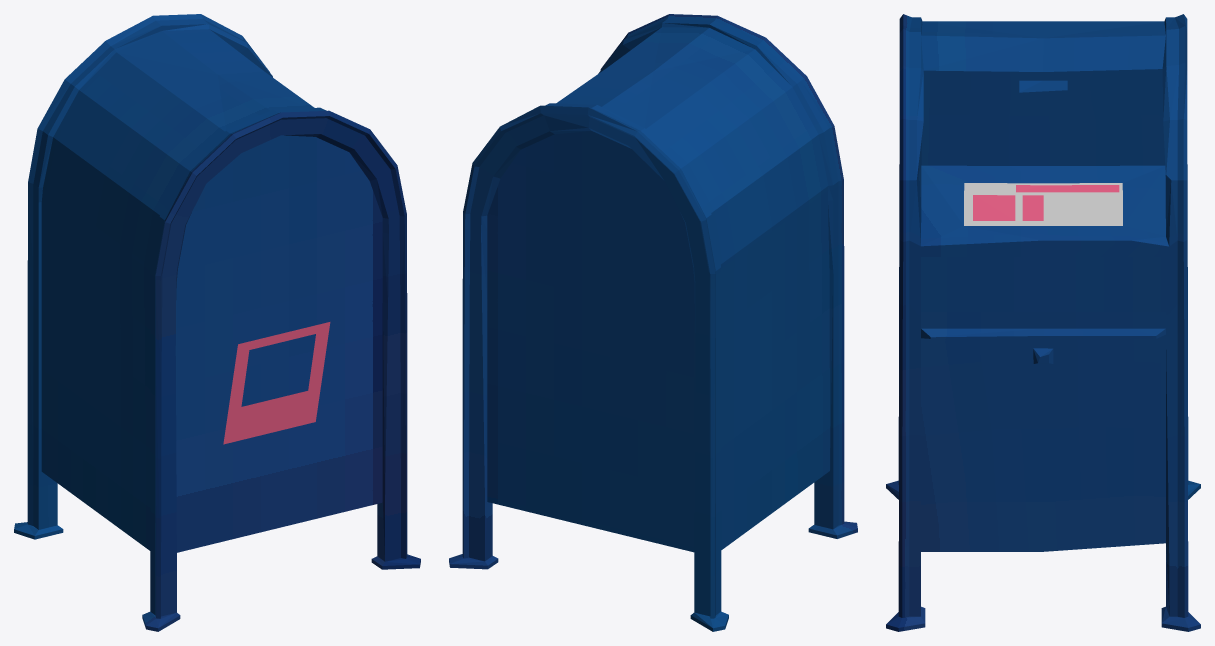
The model's file is City_MailBox01.fbx.
3 renders of one model, left to right at view 1: azimuth 30°, elevation 25°; view 2: azimuth 150°, elevation 25°; view 3: azimuth 270°, elevation 25°, orthographic. The views are drawn at different scales.
Parts seen in each view (by area): view 1: SM_City_Mailbox_02.mo; view 2: SM_City_Mailbox_02.mo; view 3: SM_City_Mailbox_02.mo.
Boxes of the visible parts, x1,y1,x2,y2 form: SM_City_Mailbox_02.mo: [14, 14, 420, 631]; SM_City_Mailbox_02.mo: [449, 14, 857, 631]; SM_City_Mailbox_02.mo: [886, 14, 1200, 631].
Size of the model in its own units: 77.3 by 130 by 69.8.
